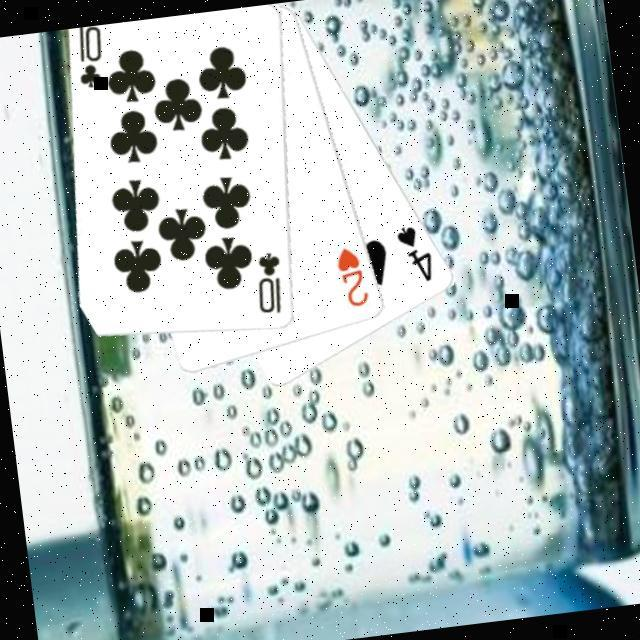10C: (68, 25, 110, 95), (248, 249, 288, 320)
2H: (330, 244, 372, 314)
4S: (390, 222, 438, 290)
